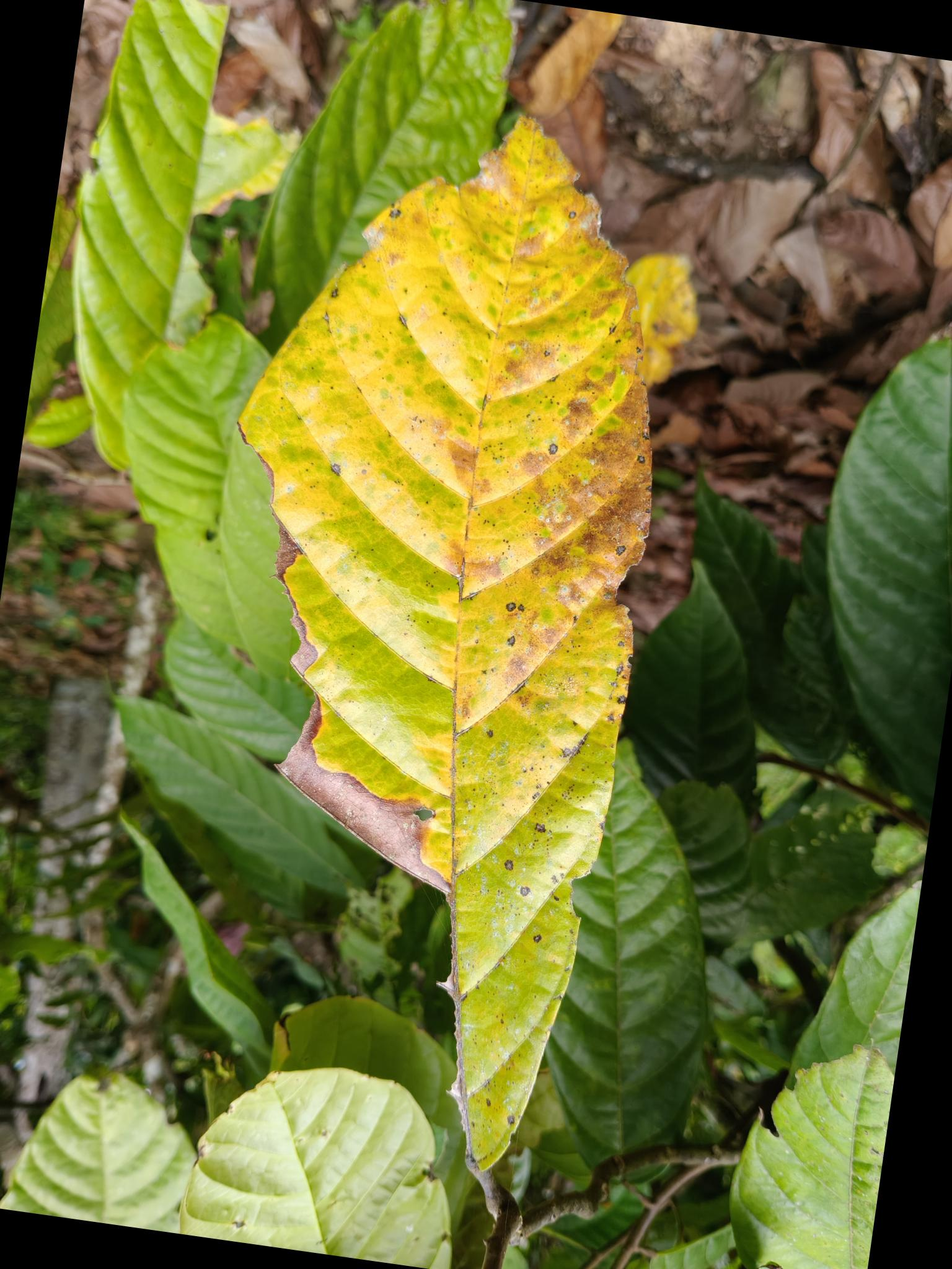Fosforo: (253, 150, 637, 1187)
